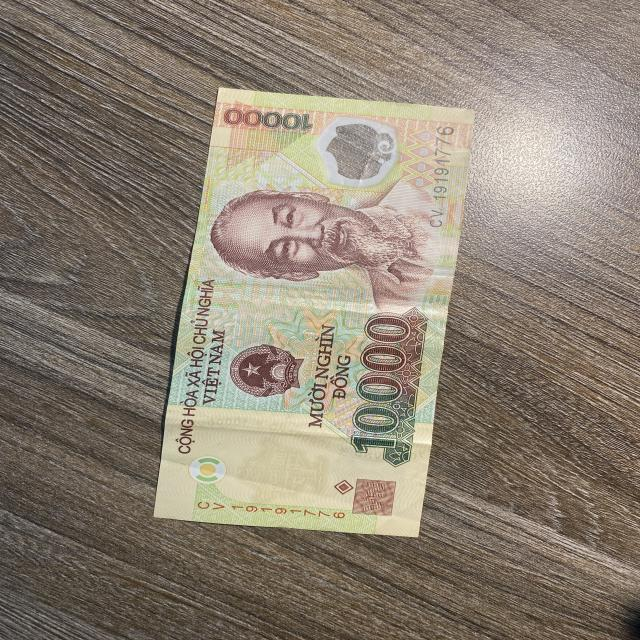10 000 VND: (150, 85, 478, 540)
